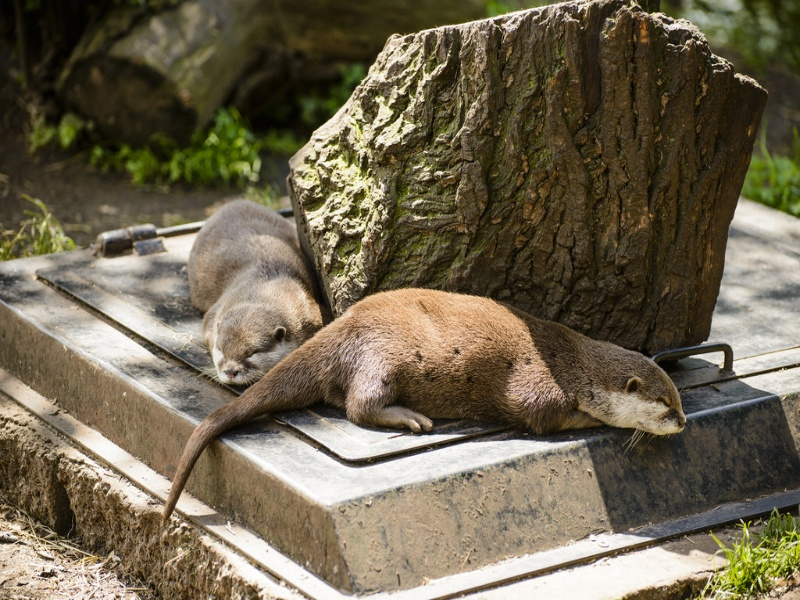minkish: (154, 286, 697, 532), (176, 199, 326, 391)
